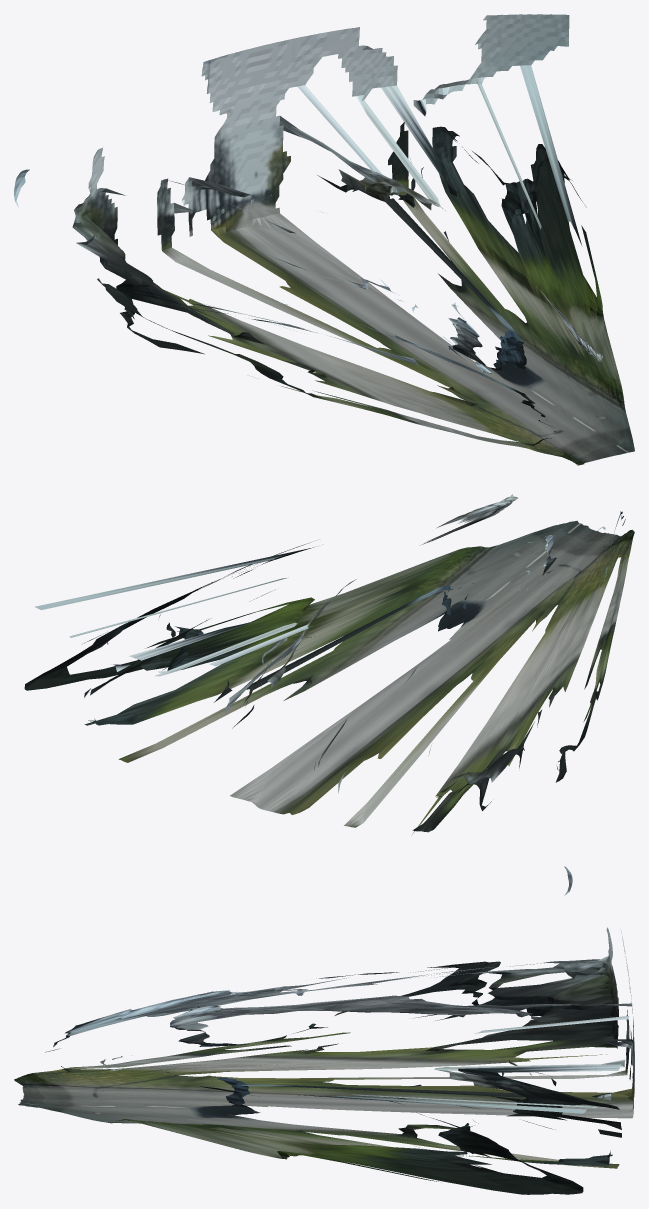
The picture shows the model from 3 angles, top to bottom: view 1: azimuth 30°, elevation 25°; view 2: azimuth 150°, elevation 25°; view 3: azimuth 270°, elevation 25°; orthographic projection. The views are drawn at different scales.
Visible parts, largest first — view 1: defaultobject; view 2: defaultobject; view 3: defaultobject.
Boxes of the visible parts, x1=… form: defaultobject: x1=14, y1=14, x2=634, y2=465; defaultobject: x1=24, y1=494, x2=634, y2=834; defaultobject: x1=14, y1=866, x2=634, y2=1194.
Bounding box in the file's own units: 40.83 × 13.12 × 45.19.
1 material, 1 textured.
